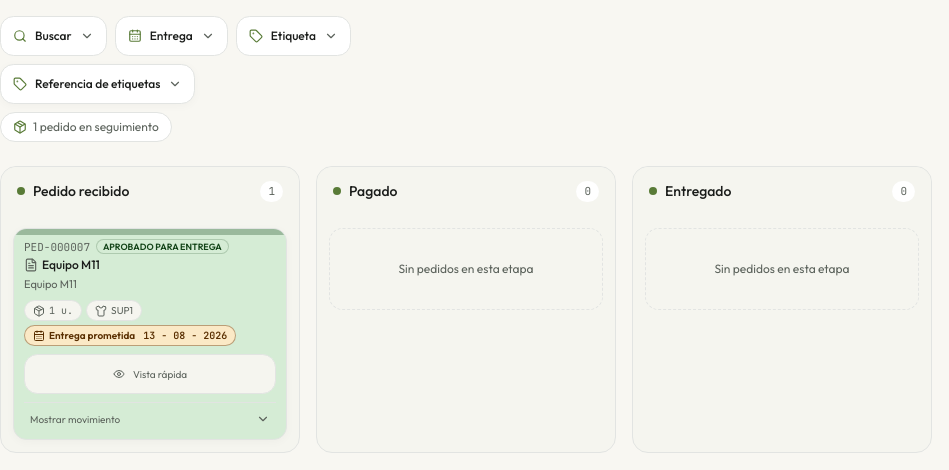
Scenario: order board payment confirmation › renders the new label with a full-card color and reference
Expected: the text "APROBADO PARA ENTREGA" is shown, [96,239,229,254]
Click the heading "Referencia de etiquetas": (98, 84) [0,64,196,104]
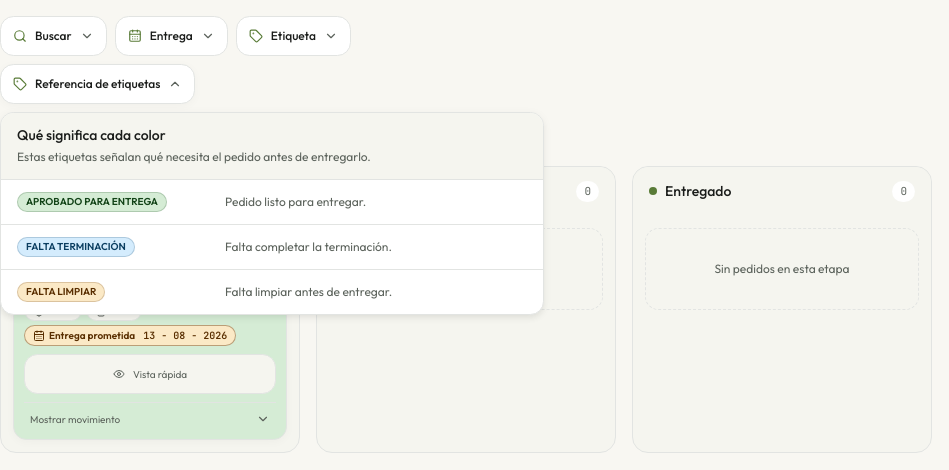
Expected: the text "Pedido listo para entregar." is shown, [225,194,366,209]
Expected: the text "Falta completar la terminación." is shown, [225,239,392,254]
Expected: the text "Falta limpiar antes de entregar." is shown, [225,284,392,299]
